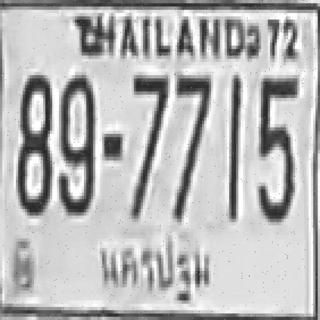N01: (226, 73, 239, 217)
N05: (255, 75, 294, 219)
N07: (131, 70, 167, 217), (173, 72, 209, 216), (175, 72, 209, 209), (175, 72, 209, 163)
N08: (16, 72, 50, 212)
N09: (57, 72, 93, 212)
P28: (93, 232, 214, 306)
